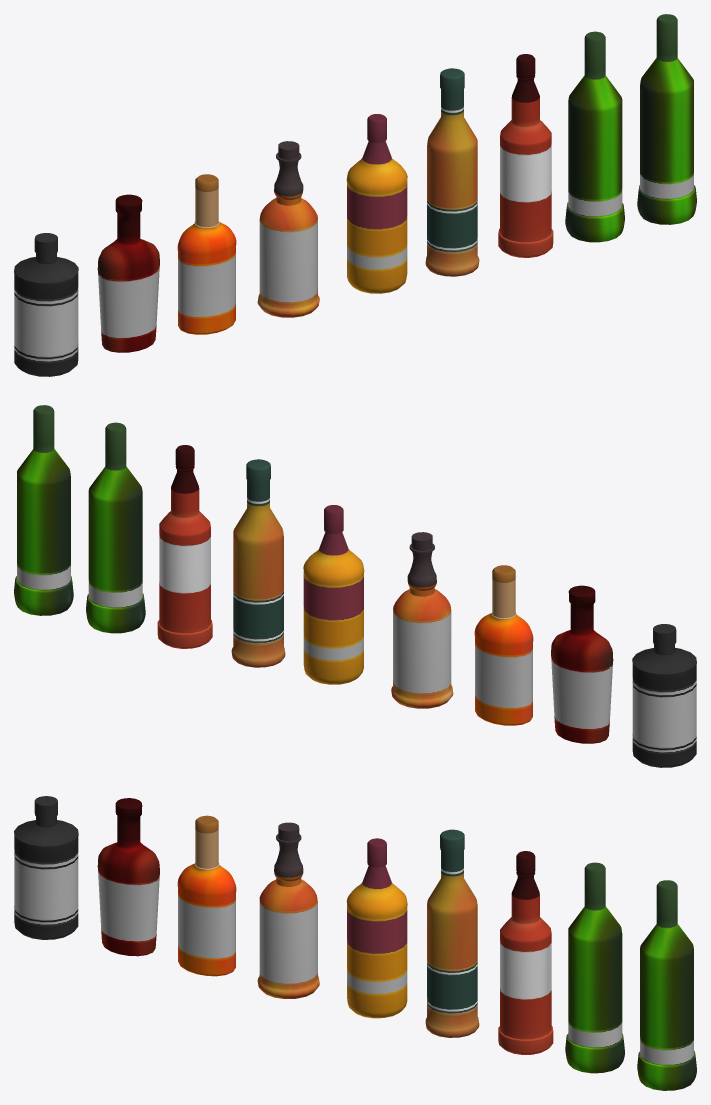
File: Bottles01_6.FBX
The picture shows the model from 3 angles, top to bottom: view 1: azimuth 30°, elevation 25°; view 2: azimuth 150°, elevation 25°; view 3: azimuth 330°, elevation 25°; orthographic projection.
Visible parts, largest first — view 1: Bottles01_6; view 2: Bottles01_6; view 3: Bottles01_6.
Boxes of the visible parts, left/top/right/bottom form: Bottles01_6: left=14, top=14, right=696, bottom=376; Bottles01_6: left=14, top=405, right=696, bottom=767; Bottles01_6: left=14, top=796, right=696, bottom=1090.
Size of the model in its own units: 111 by 30.73 by 9.31.
